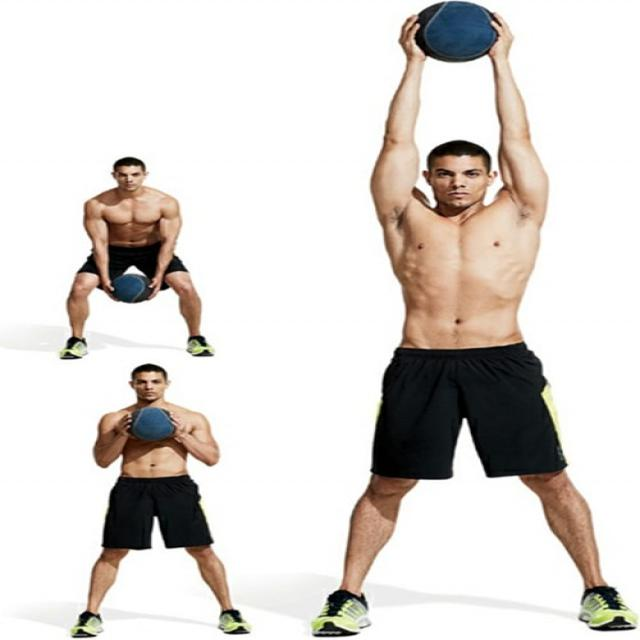Ball: (388, 0, 520, 66), (114, 395, 191, 451), (91, 268, 161, 312)
